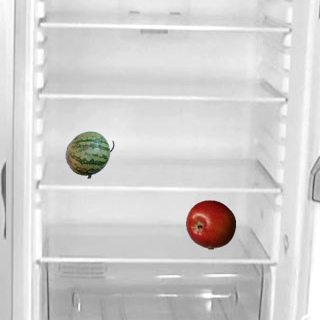Apple Braeburn: (185, 199, 235, 249)
Watermelon: (64, 129, 114, 179)
